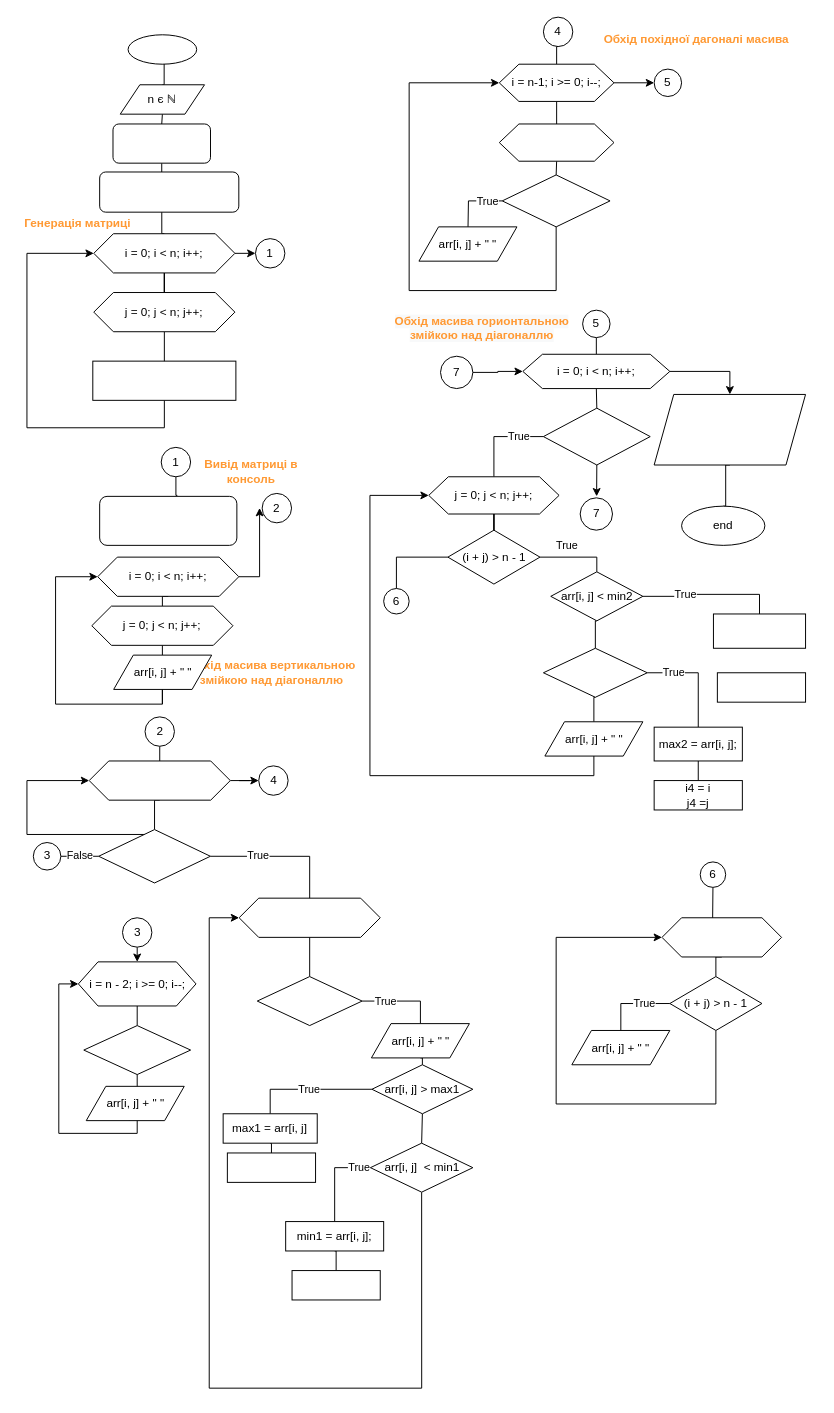
Image size: 834x1413. Some labels were removed from this diagram. Each missing label, with the centre of its shape:
(i + 1) % 2 == 1: the point at 596,436
(i + j) < n - 1: the point at 137,1050
(i + j) == (n - 1): the point at 555,200
(i+j) < n - 1: the point at 309,1001
(j+1) % 2 == 1: the point at 154,856
[i1, j1]: max1, [i2, j2]: min1, [i4, j4]: max2, [i3, j3]: min2: the point at 729,429
arr[i, j] = Random(10, 99);: the point at 164,380
arr[i, j] > max2: the point at 594,672
arr[n, n]: the point at 161,143
i = 0; i < n-1; i++;: the point at 309,917
i1 = i j1 =j: the point at 271,1167
i1, j1, i2, j2, i3, j3, i4, j4 max1, max2, min2, min2: the point at 169,191
i2 = i j2 =j: the point at 335,1285
i3 = i j3 =j: the point at 761,687
j = n - 1; j >= 0; j--;: the point at 721,937
j = n - 2; j >= 0; j--;: the point at 159,780
j = n-1; j >= 0; j--: the point at 556,142
min1 = max1 = arr[0, 0] min2 = max2 = arr[1, n-1]: the point at 168,520
min2 = arr[i, j];: the point at 759,630
Start: the point at 162,49
